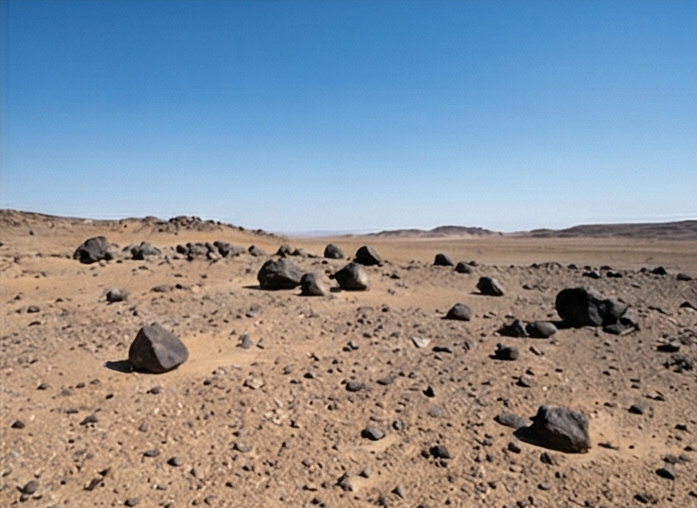rocks: (514, 402, 591, 453), (553, 285, 629, 328), (130, 322, 189, 373), (256, 256, 305, 288), (72, 234, 112, 263), (331, 260, 369, 289), (298, 271, 328, 295), (352, 244, 383, 266), (127, 239, 162, 258), (496, 318, 530, 337), (336, 471, 365, 492), (212, 239, 247, 256), (475, 274, 503, 294), (442, 302, 471, 321), (526, 319, 558, 336), (496, 411, 528, 428), (663, 353, 692, 370), (491, 343, 519, 359), (602, 320, 631, 335), (616, 308, 638, 326), (361, 423, 384, 439), (105, 286, 129, 301), (427, 443, 449, 459), (323, 242, 344, 258), (654, 339, 682, 351), (187, 241, 208, 256), (18, 480, 39, 495), (432, 251, 453, 265), (655, 466, 676, 479), (150, 283, 180, 292), (84, 476, 103, 490), (246, 244, 268, 256), (237, 333, 253, 348), (231, 439, 251, 451), (537, 450, 554, 464), (597, 439, 620, 449), (78, 413, 97, 425), (426, 403, 443, 416), (344, 380, 365, 390), (390, 484, 405, 498), (453, 261, 472, 272), (375, 374, 394, 385), (141, 446, 161, 456), (677, 299, 697, 309), (663, 453, 683, 463), (626, 403, 644, 414), (420, 383, 435, 396), (275, 244, 291, 256), (165, 455, 182, 466), (515, 375, 532, 386), (144, 383, 161, 394), (122, 495, 139, 506), (506, 440, 521, 452), (676, 271, 693, 281), (8, 418, 25, 428), (432, 345, 452, 353), (583, 269, 600, 278), (527, 345, 542, 355), (174, 243, 186, 255), (136, 419, 148, 431), (289, 245, 302, 255), (650, 266, 665, 274), (605, 270, 622, 277), (26, 305, 40, 313)
